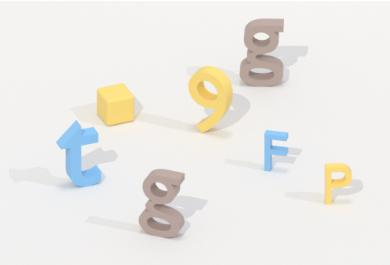0-KhoiVuong: (93, 81, 139, 130)
9: (185, 61, 233, 136)
F: (260, 126, 291, 175)
P: (321, 159, 355, 208)
g: (236, 13, 290, 90), (136, 165, 189, 243)
t: (54, 115, 105, 194)
